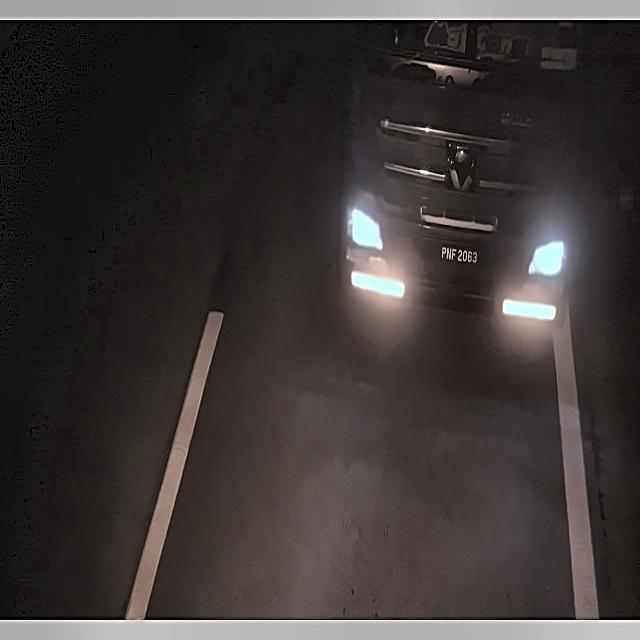car: (435, 241, 488, 269)
